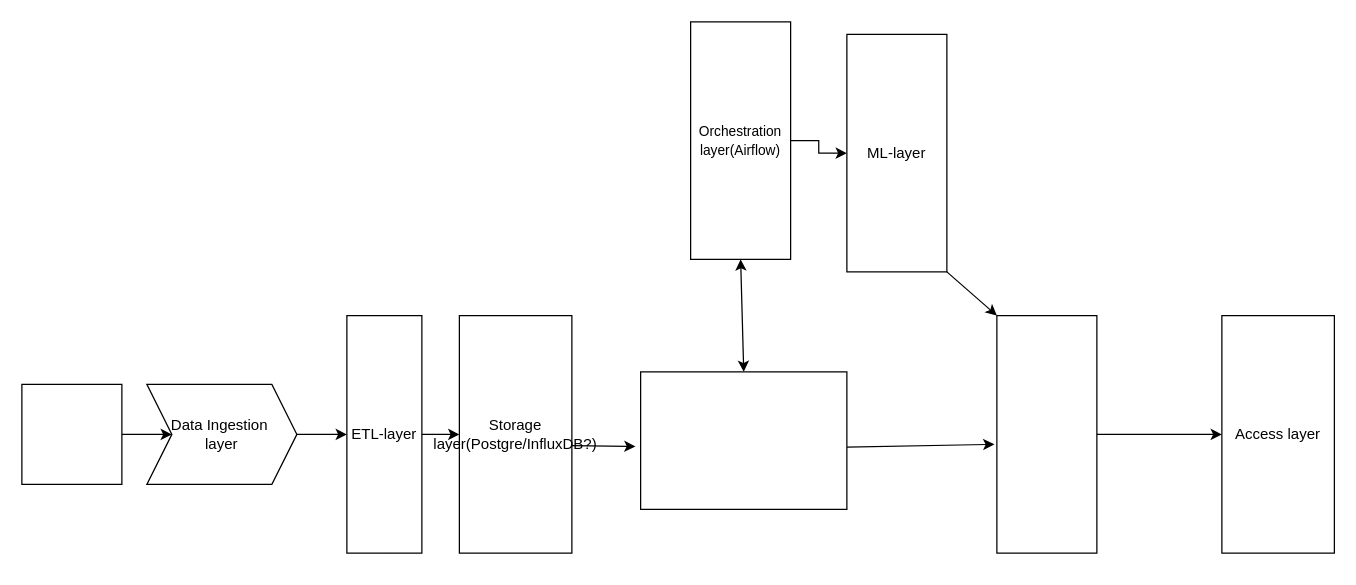
This 1356x585 diagram has some shape labels left out. Here are the shapes that lost their labels. From the top down, the centre of each, then its label:
At point (71, 433): "Data Source".
At point (743, 440): "Processing Layer".
At point (1046, 433): "Visualization layer".
